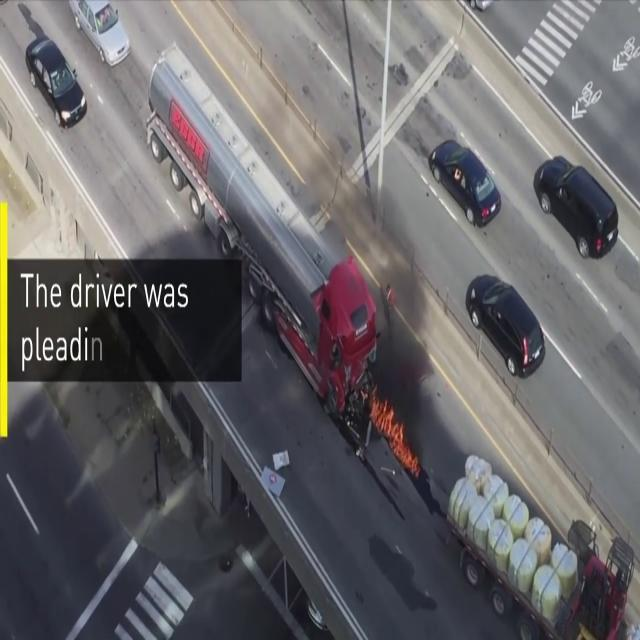Fire: (372, 390, 414, 473)
Smoke: (348, 187, 429, 410)
